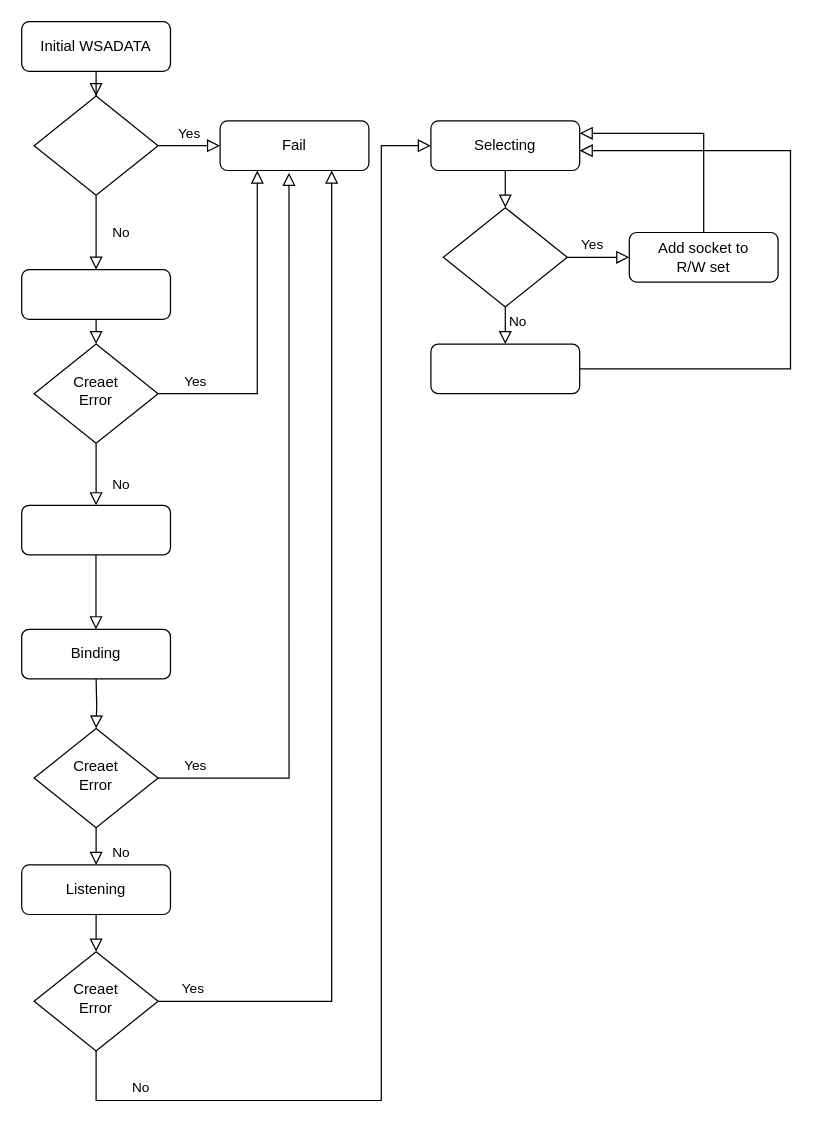
The diagram is 825 pixels wide and 1135 high, and some of its shapes have lost their labels. Each missing label, with the centre of its shape:
"Broadcasting Received message" goes at (x=505, y=368).
"Create Socket" goes at (x=95, y=293).
"New Connection" goes at (x=504, y=256).
"Setting name resolution" goes at (x=95, y=529).
"Startup Error" goes at (x=95, y=145).
